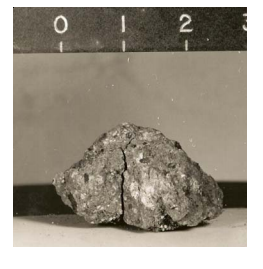Breccia: (53, 96, 233, 239)
